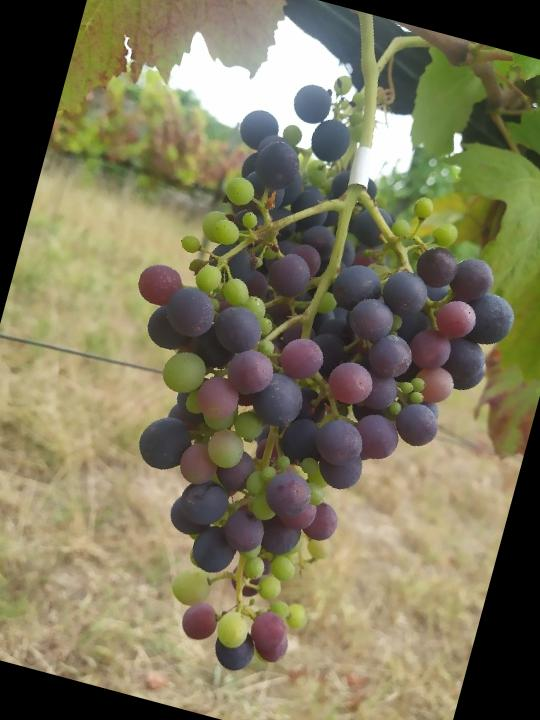grape: (46, 37, 540, 720)
